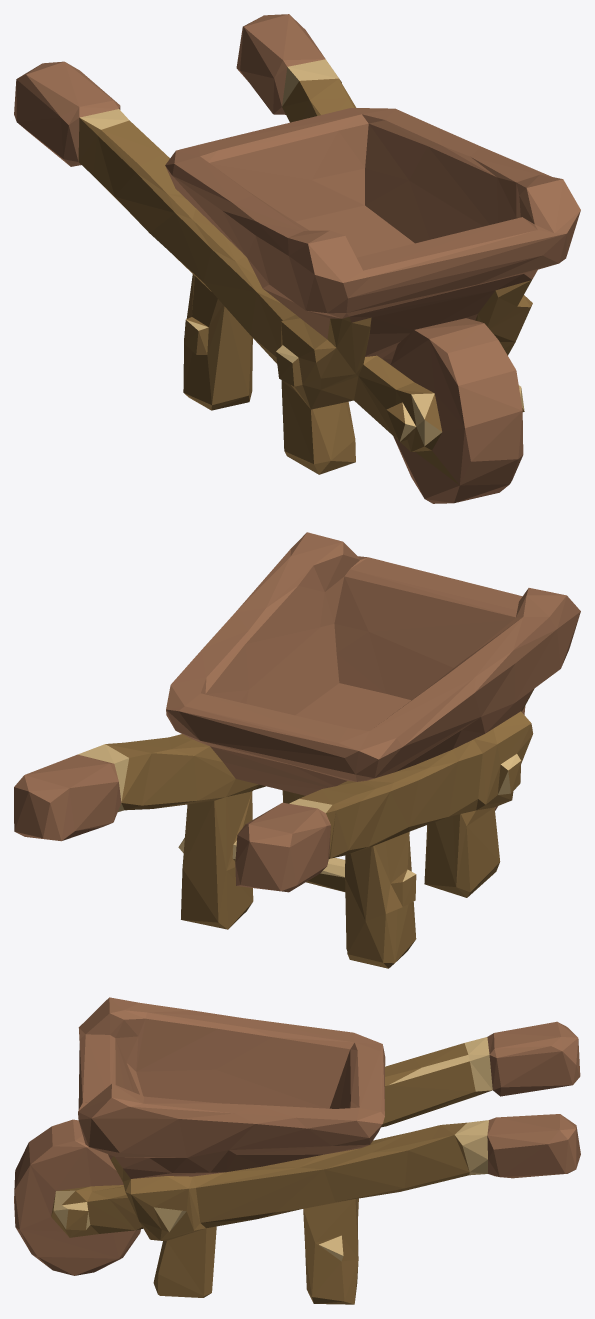
File: prop_wheelbarrow.glb
The picture shows the model from 3 angles, top to bottom: view 1: azimuth 30°, elevation 25°; view 2: azimuth 150°, elevation 25°; view 3: azimuth 270°, elevation 25°; orthographic projection. The views are drawn at different scales.
Parts seen in each view (by area): view 1: PropWheelbarrowBody; view 2: PropWheelbarrowBody; view 3: PropWheelbarrowBody.
Boxes of the visible parts, x1,y1,x2,y2 form: PropWheelbarrowBody: (14,14,580,503); PropWheelbarrowBody: (14,532,580,968); PropWheelbarrowBody: (14,997,580,1304).
Bounding box in the file's own units: 0.4617 × 0.4252 × 1.
